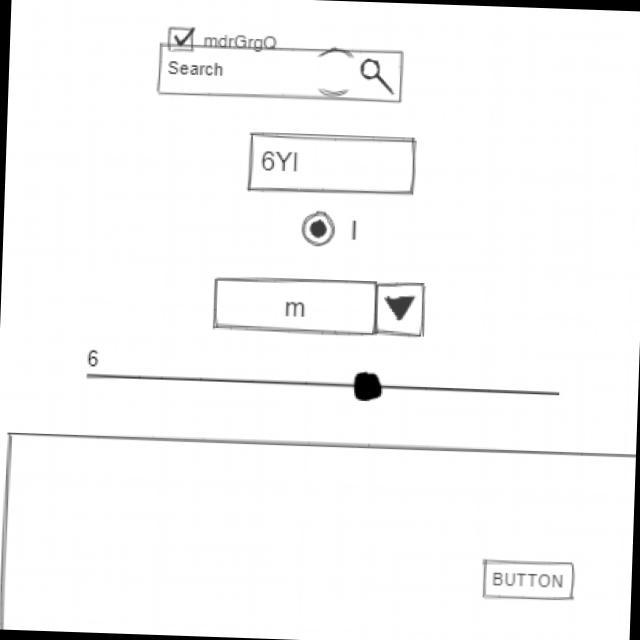button: (480, 554, 580, 604)
checkbox: (166, 25, 281, 58)
container: (1, 426, 637, 640)
input: (242, 127, 421, 200)
radio: (298, 207, 373, 252)
search: (153, 40, 408, 110)
select: (208, 270, 432, 341)
